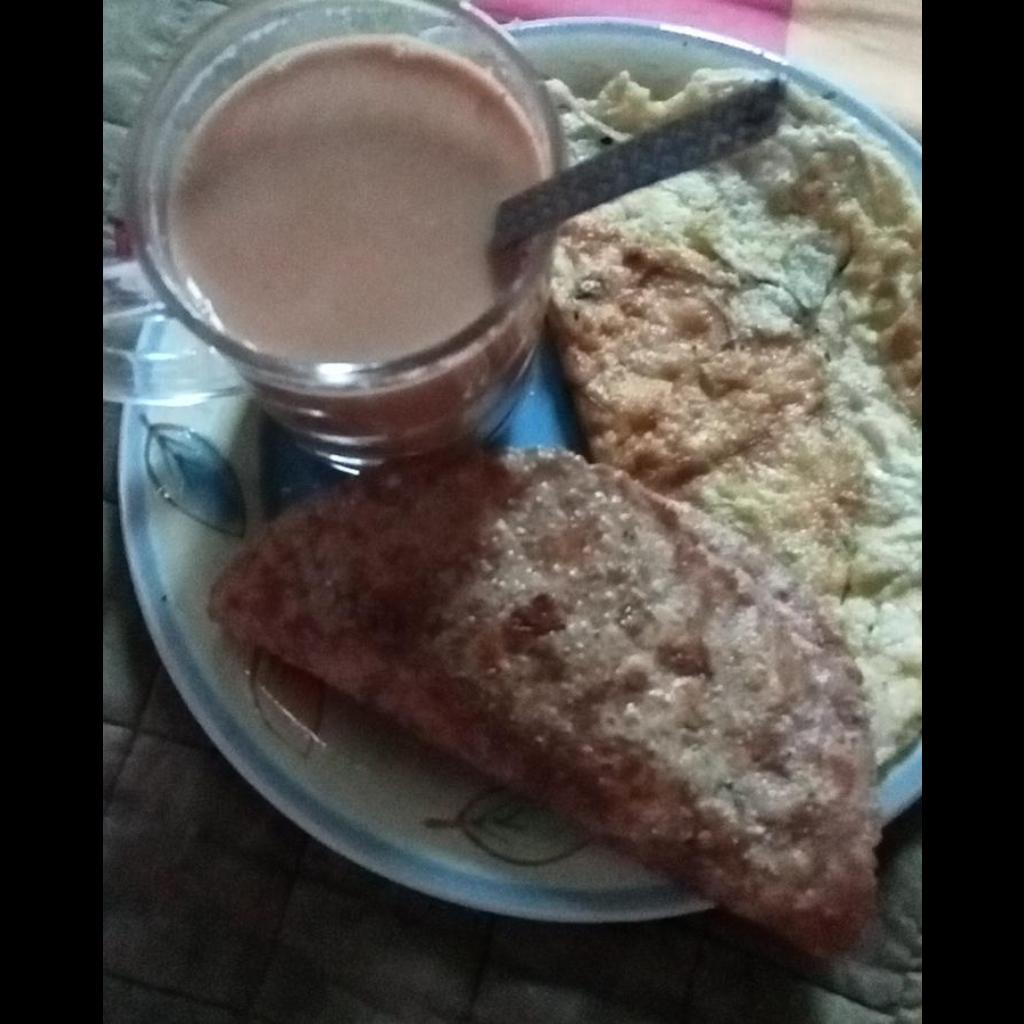cha: (173, 36, 544, 364)
egg-poached: (550, 70, 920, 772)
ruti: (206, 444, 875, 960)
